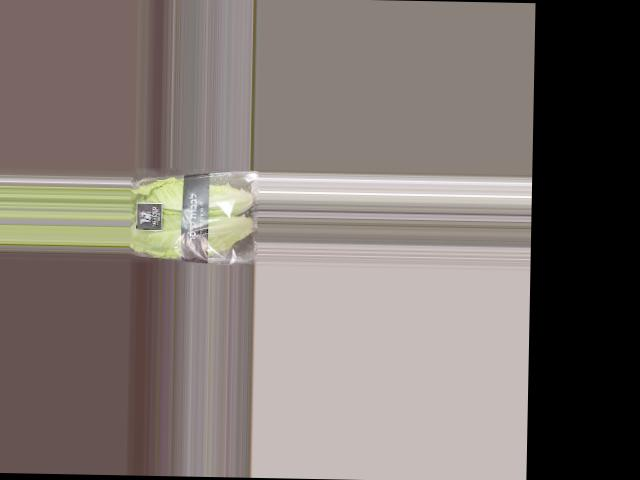lettuce: (130, 169, 259, 258)
